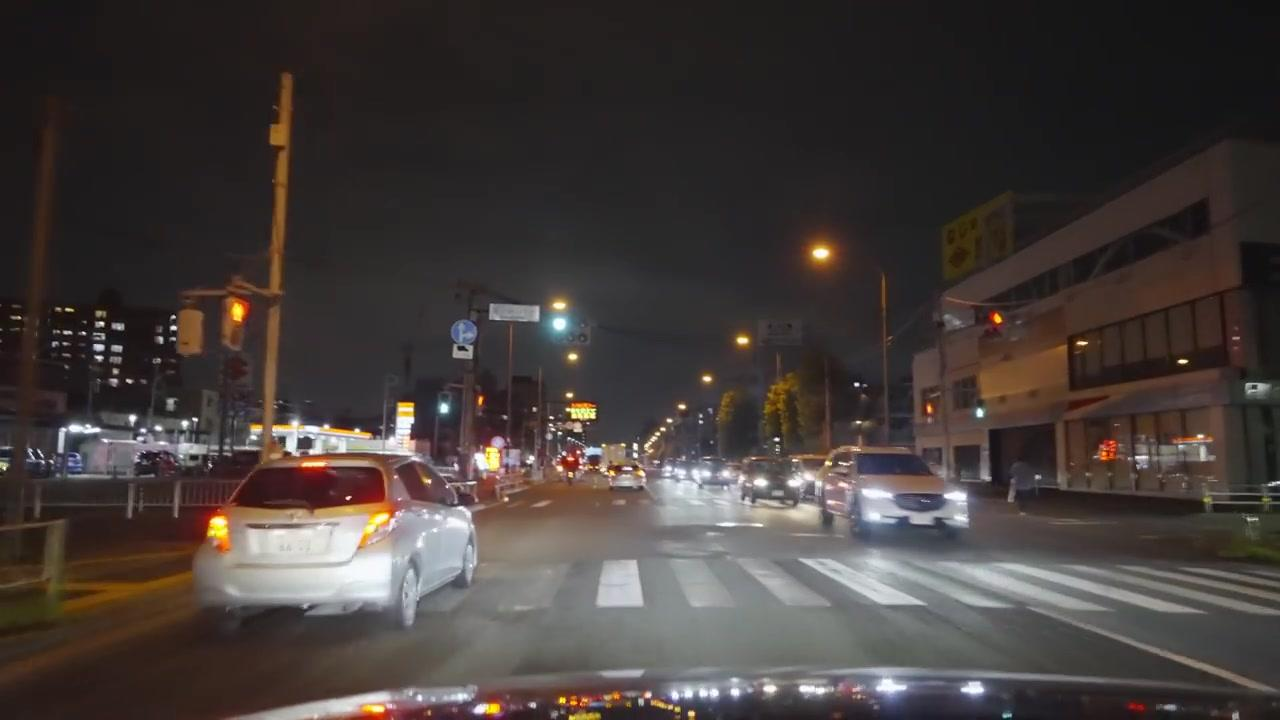car: (190, 447, 480, 636), (817, 446, 968, 543), (740, 458, 804, 507), (0, 446, 54, 478), (794, 456, 826, 503), (609, 462, 648, 492), (694, 461, 734, 490), (1261, 478, 1280, 506)
person: (1007, 453, 1036, 505)
traffic light: (222, 296, 250, 352), (176, 309, 205, 356), (435, 390, 455, 425), (986, 310, 1006, 338), (476, 389, 486, 416)
